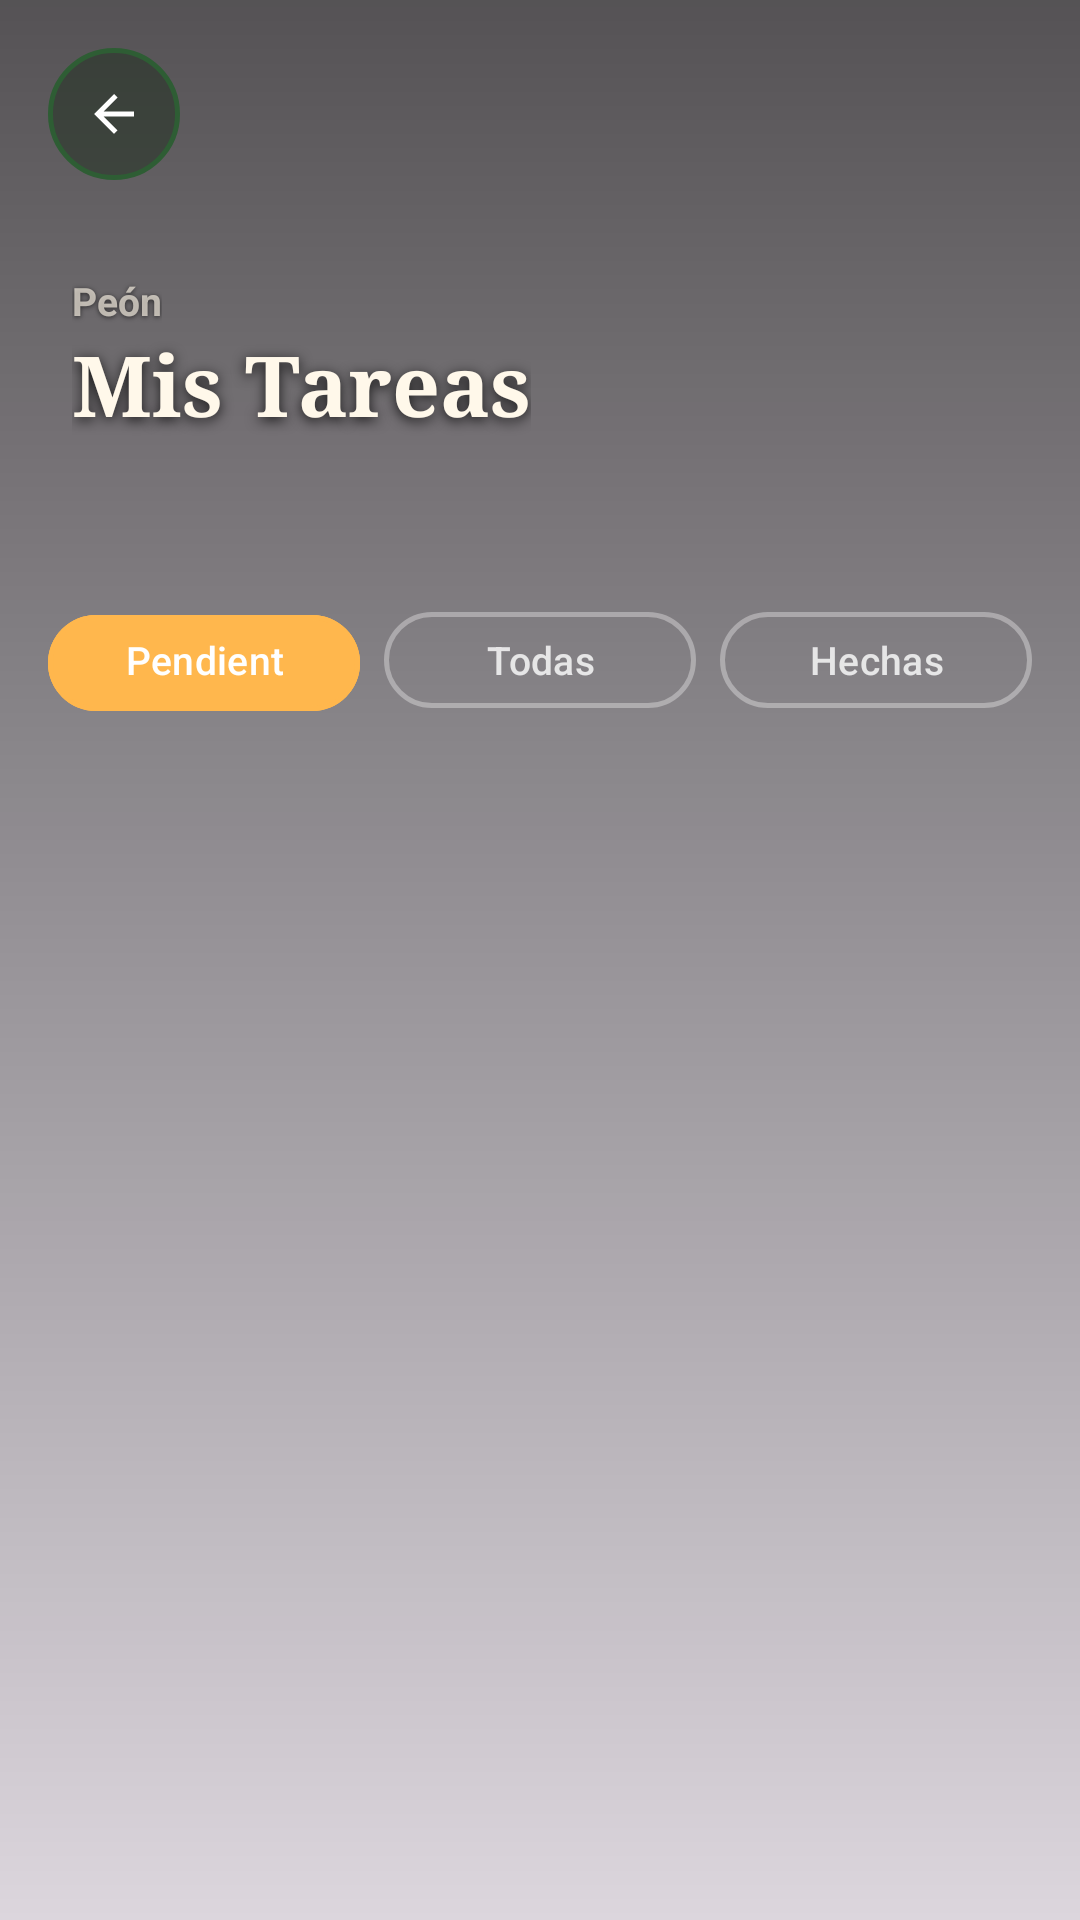

Where to tap for icons on this 1080 × 1920 app screen, as (x,y):
arrow back: (114,114)
